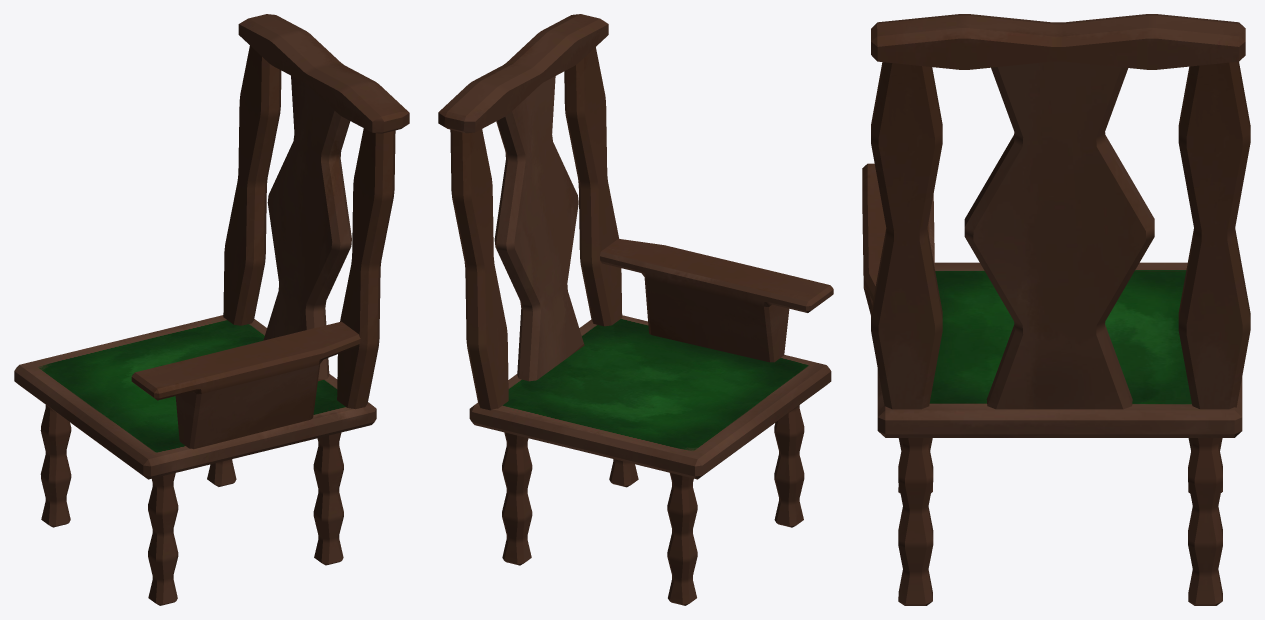
The model's file is chair3.fbx.
3 views of the same model, side by side, from view 1: azimuth 30°, elevation 25°; view 2: azimuth 150°, elevation 25°; view 3: azimuth 270°, elevation 25° (orthographic). The views are drawn at different scales.
Parts seen in each view (by area): view 1: chair3; view 2: chair3; view 3: chair3.
Part boxes in pixels (x1=…): chair3: x1=14, y1=14, x2=409, y2=605; chair3: x1=438, y1=14, x2=833, y2=605; chair3: x1=862, y1=14, x2=1250, y2=605.
Bounding box in the file's own units: 65.1 × 107 × 61.39.
